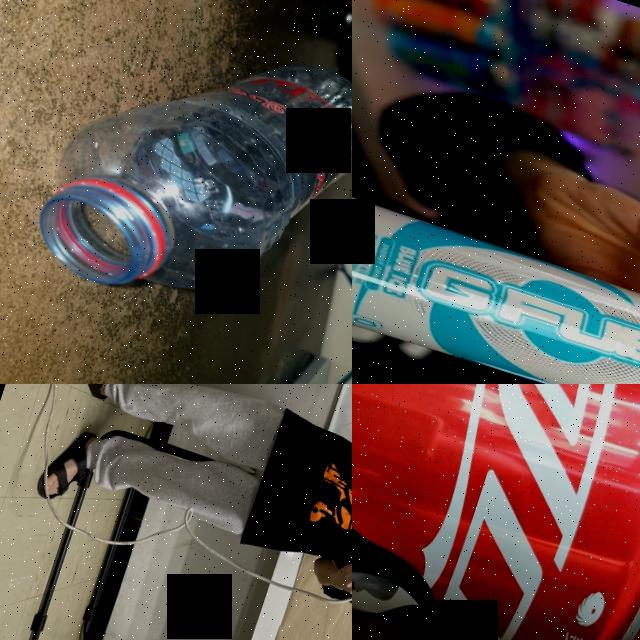bottle: (14, 0, 352, 360)
can: (352, 384, 640, 640), (352, 181, 640, 384)
